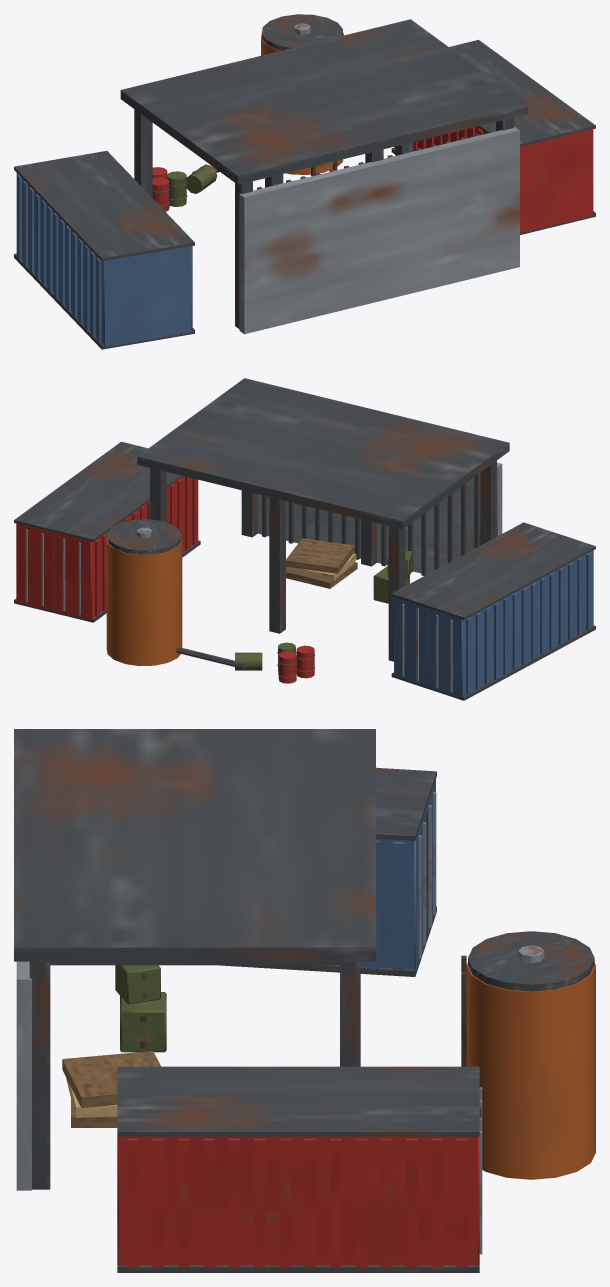
The model's file is SM_POI_IndustrialSite.fbx.
The picture shows the model from 3 angles, top to bottom: view 1: azimuth 30°, elevation 25°; view 2: azimuth 150°, elevation 25°; view 3: azimuth 270°, elevation 25°; orthographic projection. The views are drawn at different scales.
Parts seen in each view (by area): view 1: SM_POI_IndustrialSite; view 2: SM_POI_IndustrialSite; view 3: SM_POI_IndustrialSite.
Boxes of the visible parts, x1,y1,x2,y2 form: SM_POI_IndustrialSite: (14,14,595,349); SM_POI_IndustrialSite: (14,378,595,700); SM_POI_IndustrialSite: (14,729,595,1272).
Bounding box in the file's own units: 34.95 × 10.61 × 22.5.
1 material, 1 textured.
